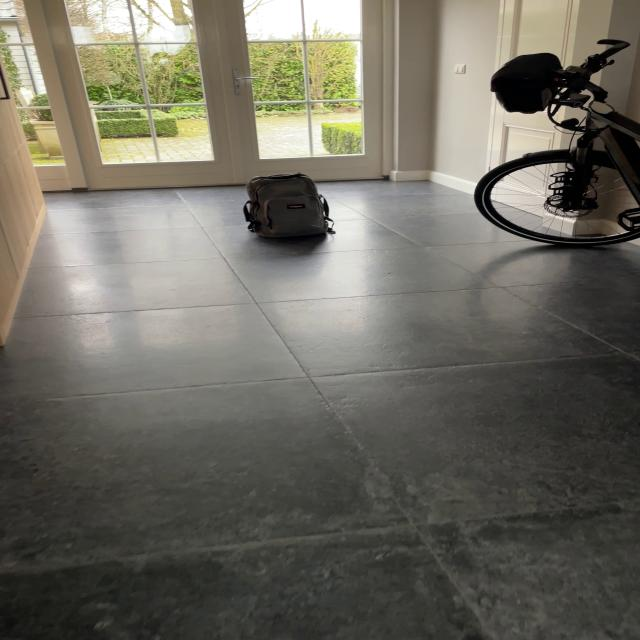backpack: (236, 169, 332, 241)
